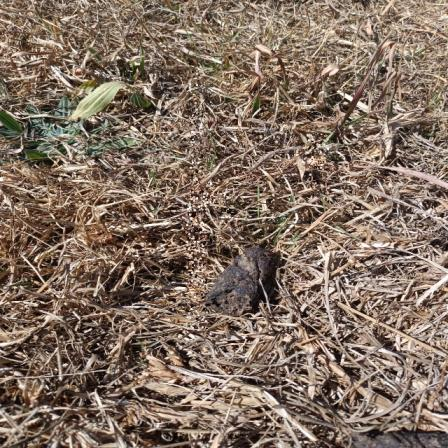dog-poop: (208, 246, 280, 318)
